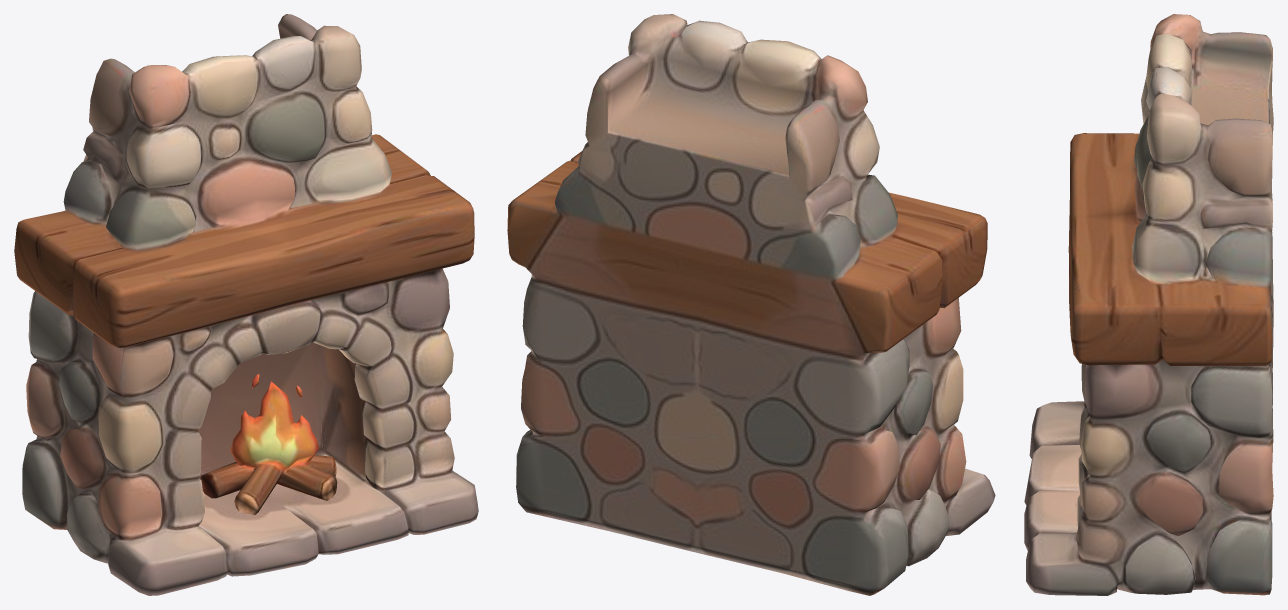
File: item-fireplace.glb
The picture shows the model from 3 angles, left to right: view 1: azimuth 30°, elevation 25°; view 2: azimuth 150°, elevation 25°; view 3: azimuth 270°, elevation 25°; orthographic projection. The views are drawn at different scales.
Bounding box in the file's own units: 0.7964 × 0.9536 × 0.4697.
Materials: 1 (1 with a texture image).
